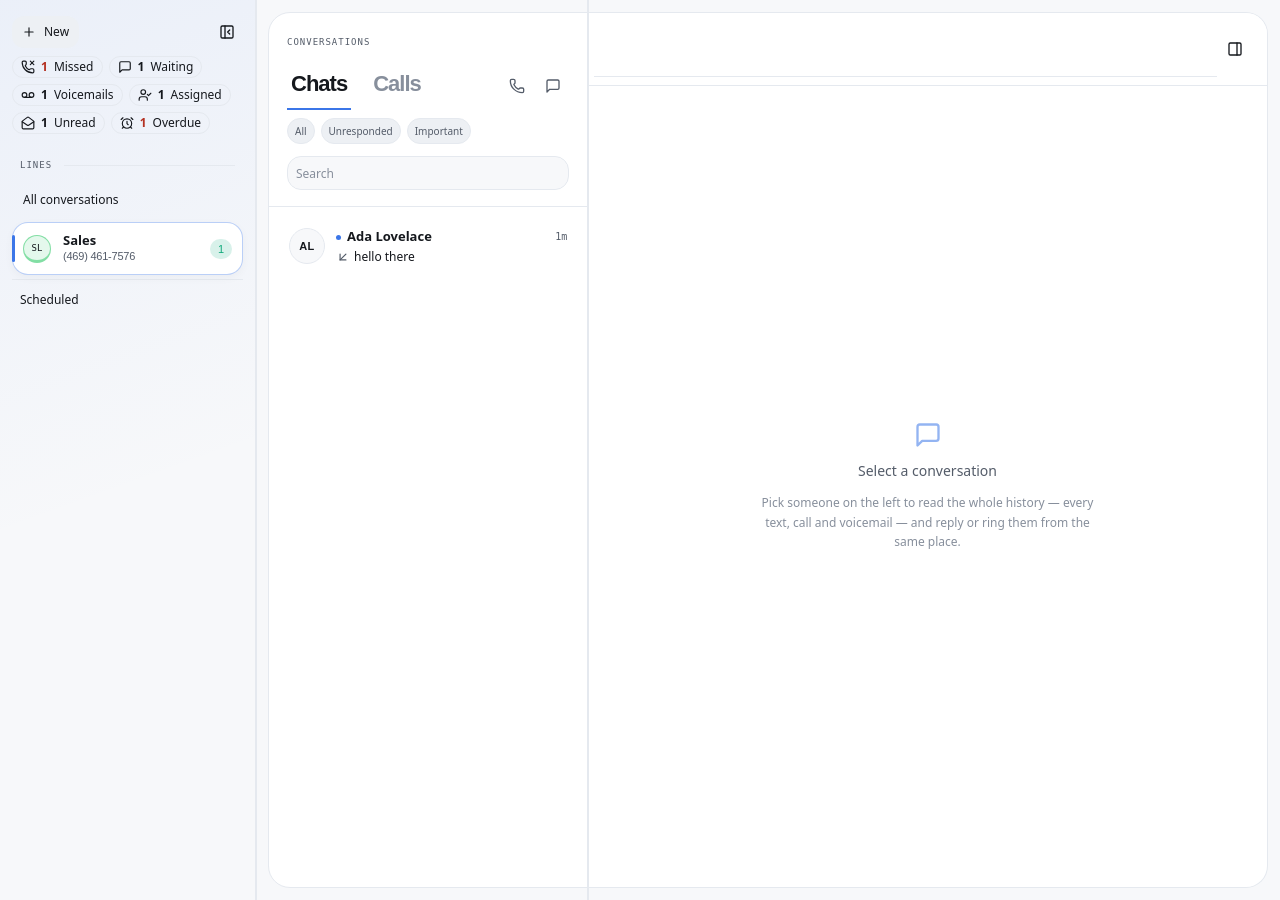
Scenario: ConversationsPage › renders the conversation list, timeline, and composer
Expected: the text "Ada Lovelace" is shown, 347,227 -> 432,247
Expected: the text "hello there" is shown, 354,248 -> 415,265
// The timeline and composer only render once a conversation is selected.
Click the button "AL Ada Lovelace 1m hello there": (428, 247) 279,211 -> 577,282
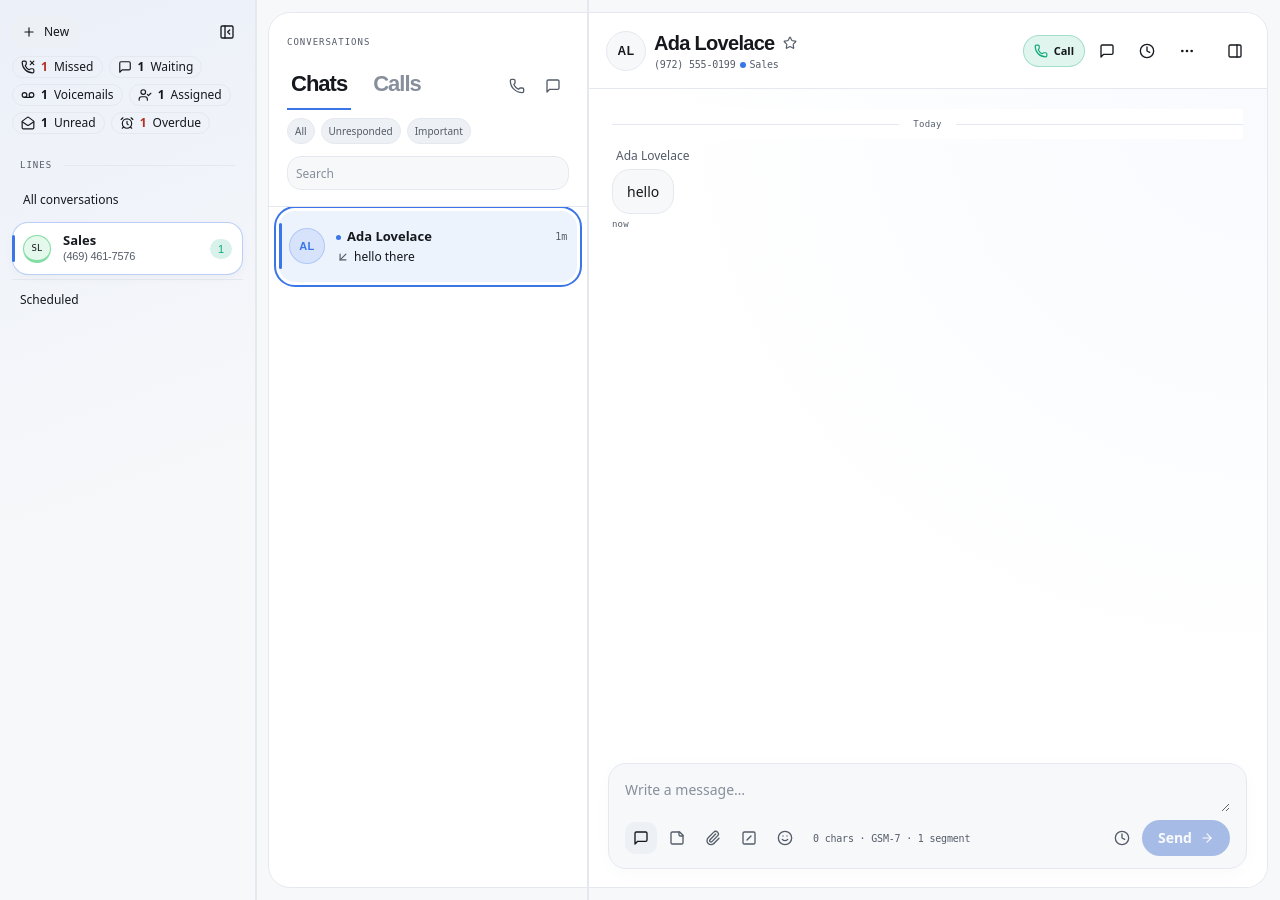
Now the text "hello" is shown, box 627,180 -> 659,204
Now the text box labelled "message" is shown, box 625,776 -> 1230,812
